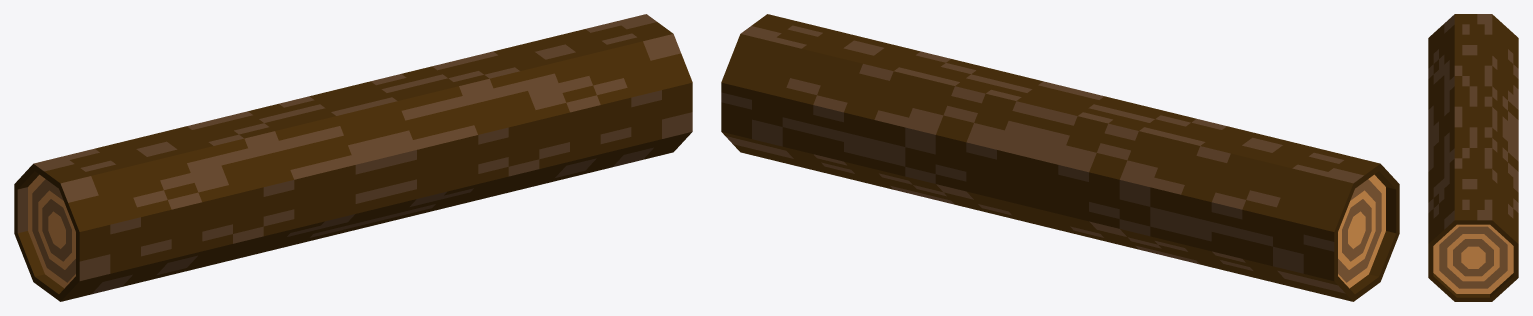
The model's file is Wood_5m.fbx.
3 views of the same model, side by side, from view 1: azimuth 30°, elevation 25°; view 2: azimuth 150°, elevation 25°; view 3: azimuth 270°, elevation 25° (orthographic). The views are drawn at different scales.
Visible parts, largest first — view 1: Cylinder.001; view 2: Cylinder.001; view 3: Cylinder.001.
Part boxes in pixels (bbox=[...]): Cylinder.001: bbox=[14, 14, 692, 301]; Cylinder.001: bbox=[721, 14, 1399, 301]; Cylinder.001: bbox=[1428, 14, 1518, 301].
Size of the model in its own units: 1000 by 185 by 185.
